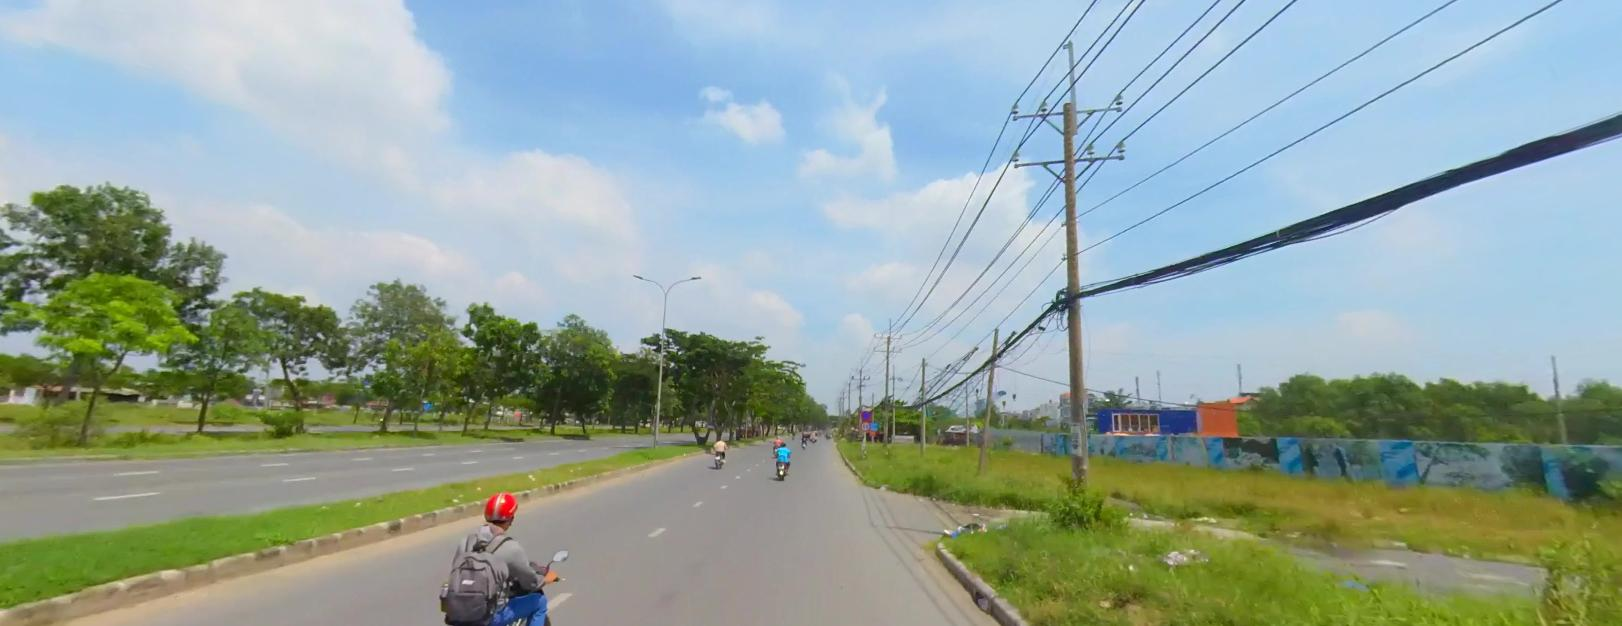Cam dung va do: (861, 409, 871, 419)
Gioi han toc do: (860, 420, 870, 429)
